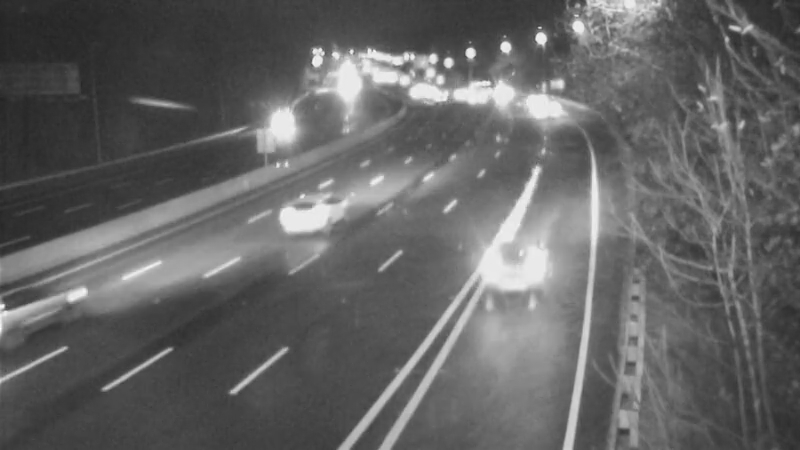vehicle: (1, 254, 101, 364), (270, 168, 350, 248), (474, 231, 554, 311), (457, 62, 507, 112), (389, 69, 439, 119), (486, 63, 536, 113), (446, 73, 496, 123), (511, 74, 561, 124), (406, 73, 456, 123), (519, 87, 569, 137), (256, 99, 306, 149)
